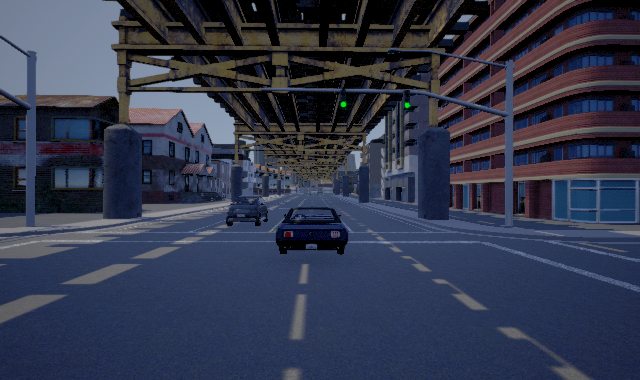traffic_light: (403, 90, 410, 110), (340, 89, 346, 109)
vehicle: (276, 206, 348, 255), (226, 195, 268, 226)
